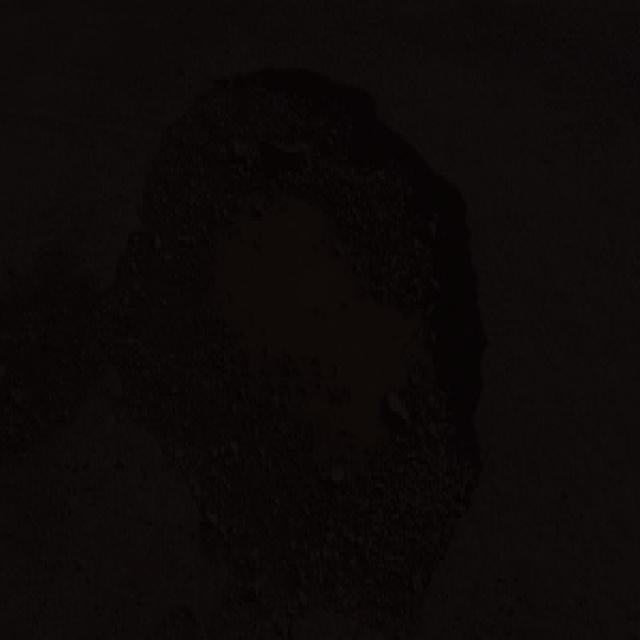Pothole: (114, 51, 484, 640)
